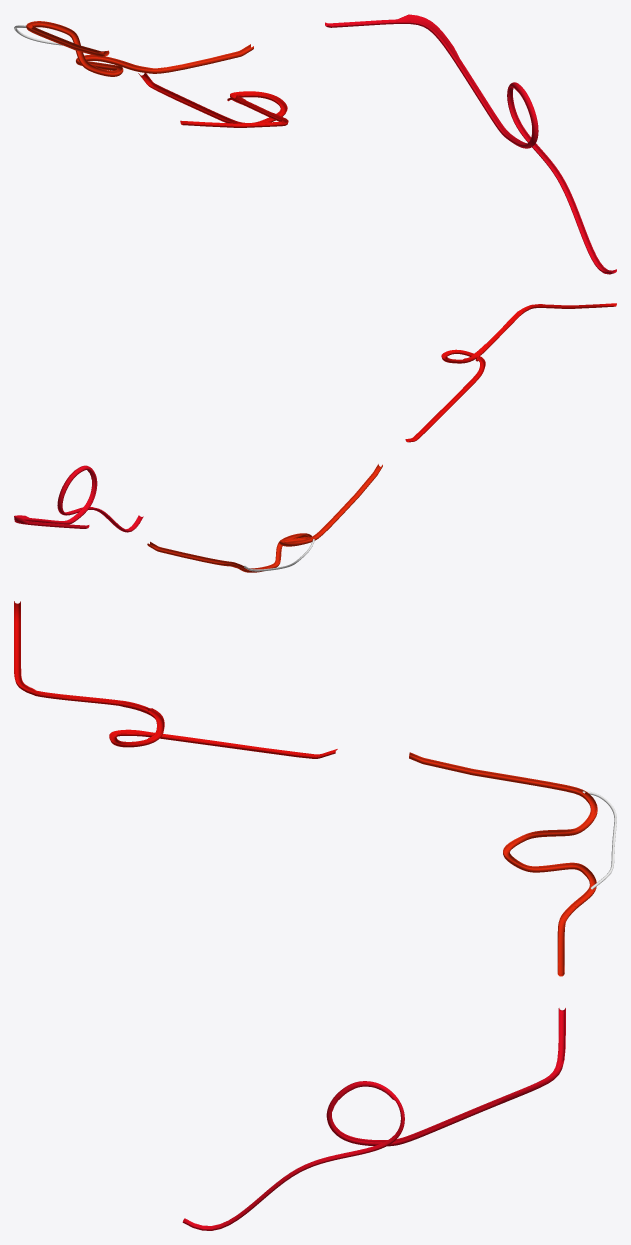
The model's file is marble race new.fbx.
The picture shows the model from 3 angles, top to bottom: view 1: azimuth 30°, elevation 25°; view 2: azimuth 150°, elevation 25°; view 3: azimuth 270°, elevation 25°; orthographic projection. The views are drawn at different scales.
Parts seen in each view (by area): view 1: NurbsPath.014, NurbsPath.018, NurbsPath.012; view 2: NurbsPath.012, NurbsPath.018, NurbsPath.014; view 3: NurbsPath.014, NurbsPath.018, NurbsPath.012.
Part boxes in pixels (<box>): NurbsPath.014: <box>325,14,616,274</box>; NurbsPath.018: <box>26,21,253,76</box>; NurbsPath.012: <box>138,72,288,127</box>; NurbsPath.012: <box>405,303,616,442</box>; NurbsPath.018: <box>147,464,382,572</box>; NurbsPath.014: <box>14,465,143,532</box>; NurbsPath.014: <box>182,1008,565,1230</box>; NurbsPath.018: <box>409,752,597,976</box>; NurbsPath.012: <box>14,601,337,758</box>.
Bounding box in the file's own units: 916398 × 577627 × 868613.
